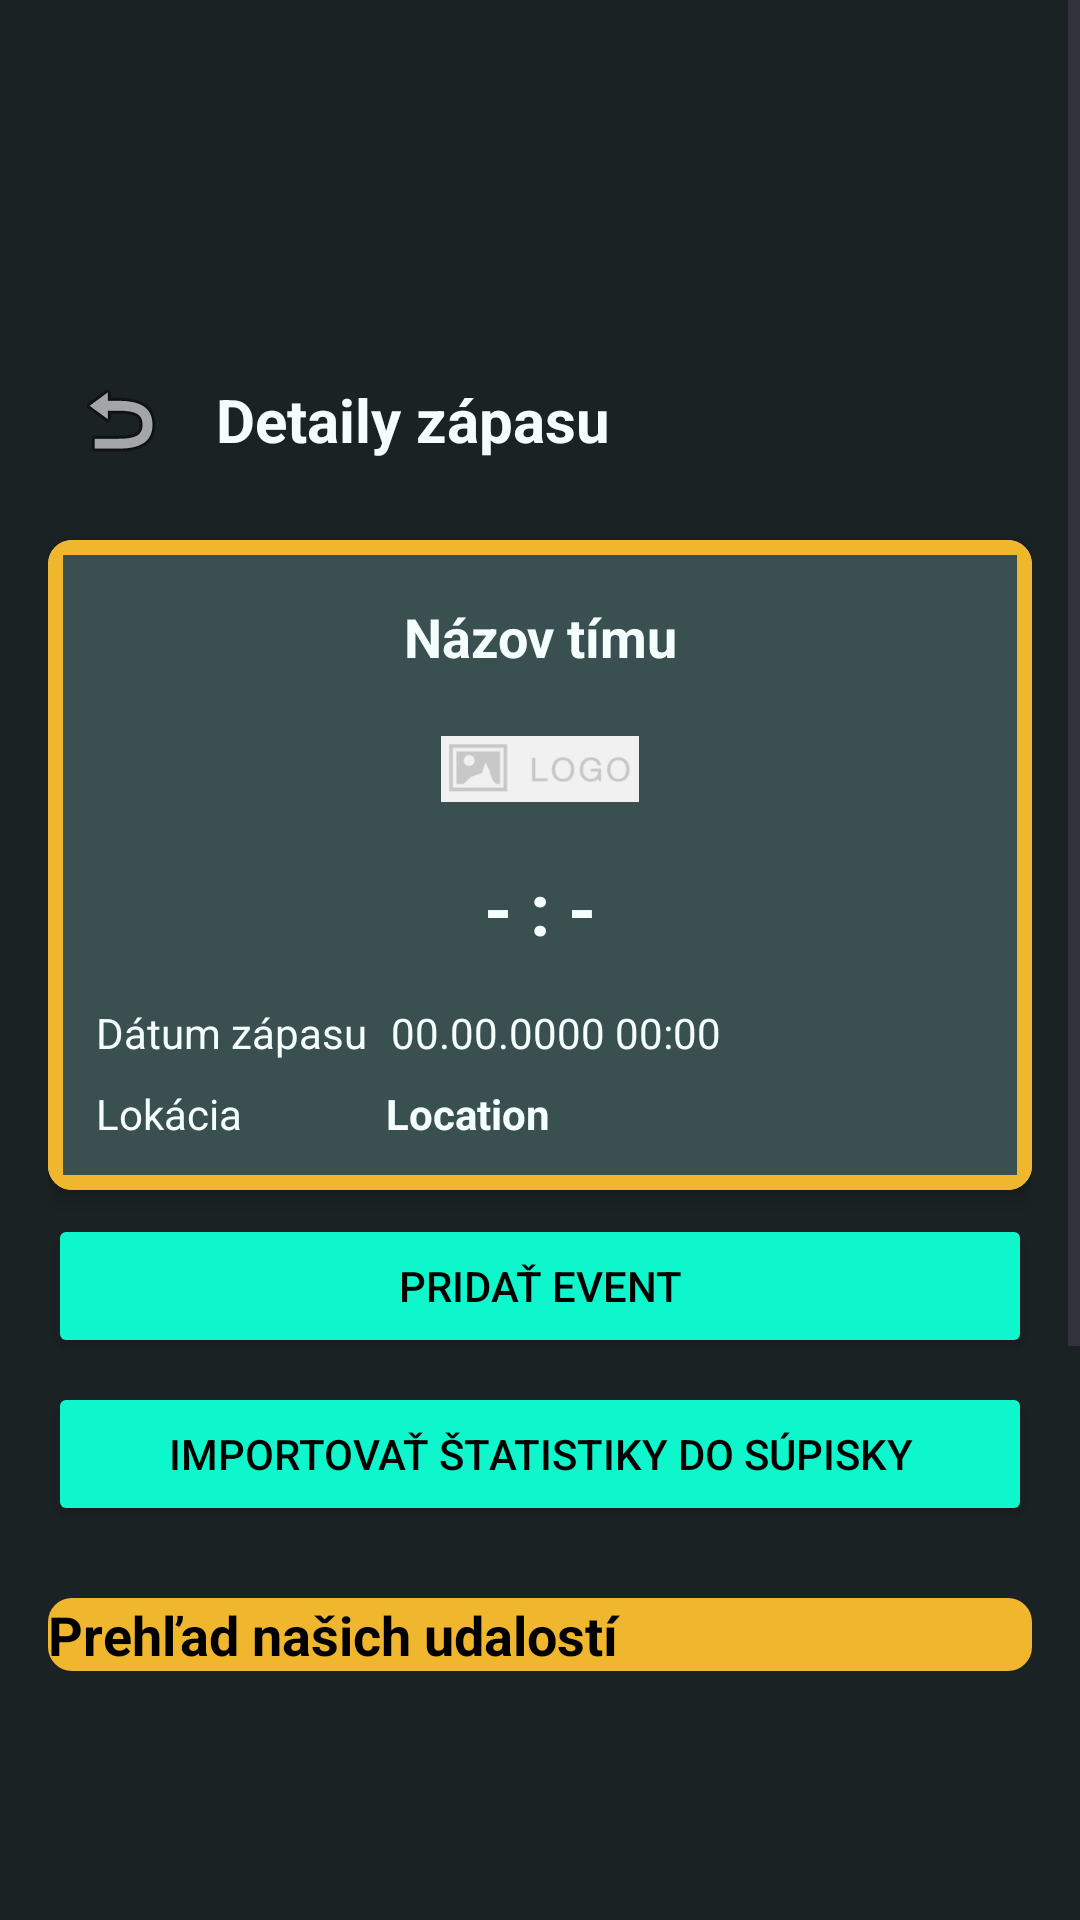

Screen size 1080px x 1920px. Icon name, then its center in pixels as (x,y):
Back: (121,420)
